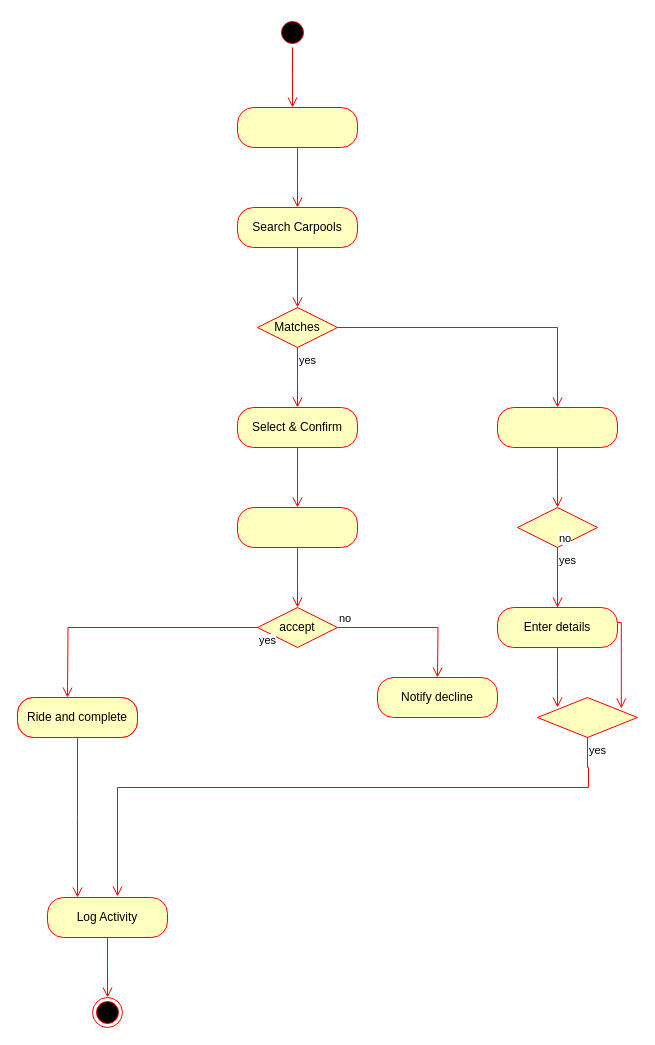
Image size: 655x1045. Some labels were removed from this diagram. The centre of each missing label's shape, as x and y in pixels:
After enteringf: point (587, 717)
Create: point (557, 527)
Register/Login: point (297, 127)
Request and accept: point (297, 527)
Suggest New Carpool: point (557, 427)
